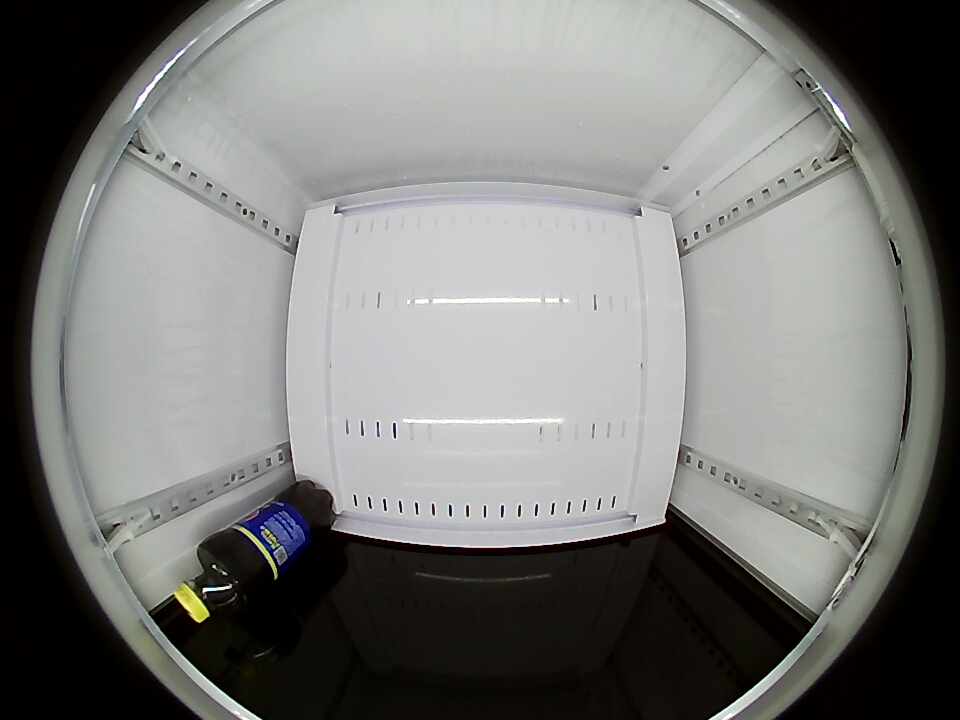baishikele: (174, 545, 250, 622)
